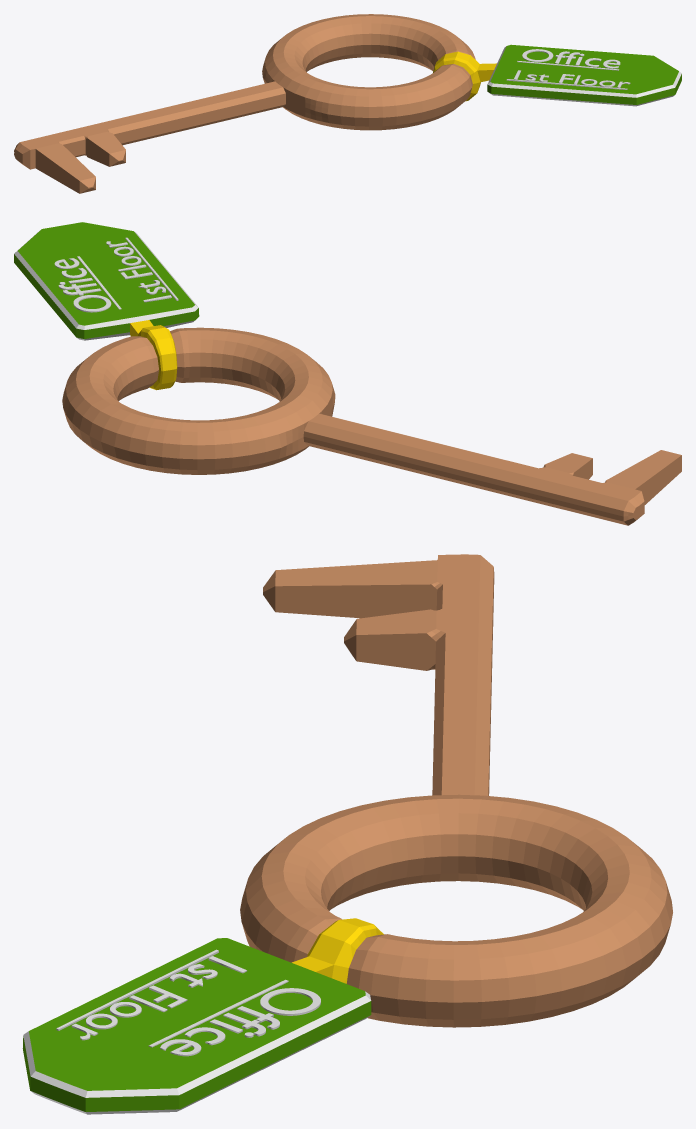
Rendered from Office_Key.fbx.
The picture shows the model from 3 angles, top to bottom: view 1: azimuth 30°, elevation 25°; view 2: azimuth 150°, elevation 25°; view 3: azimuth 270°, elevation 25°; orthographic projection. The views are drawn at different scales.
Parts seen in each view (by area): view 1: Torus, Office, Floor: 1; view 2: Torus, Office, Floor: 1; view 3: Torus, Office, Floor: 1.
Part boxes in pixels (x1,y1,x2,y2): Torus: (14, 14, 681, 193); Office: (517, 49, 620, 70); Floor: 1: (506, 70, 630, 89); Torus: (14, 222, 681, 525); Office: (54, 256, 121, 312); Floor: 1: (106, 237, 178, 302); Torus: (22, 554, 672, 1114); Office: (148, 979, 320, 1056); Floor: 1: (56, 949, 247, 1040).
Bounding box in the file's own units: 758 × 58.19 × 375.
